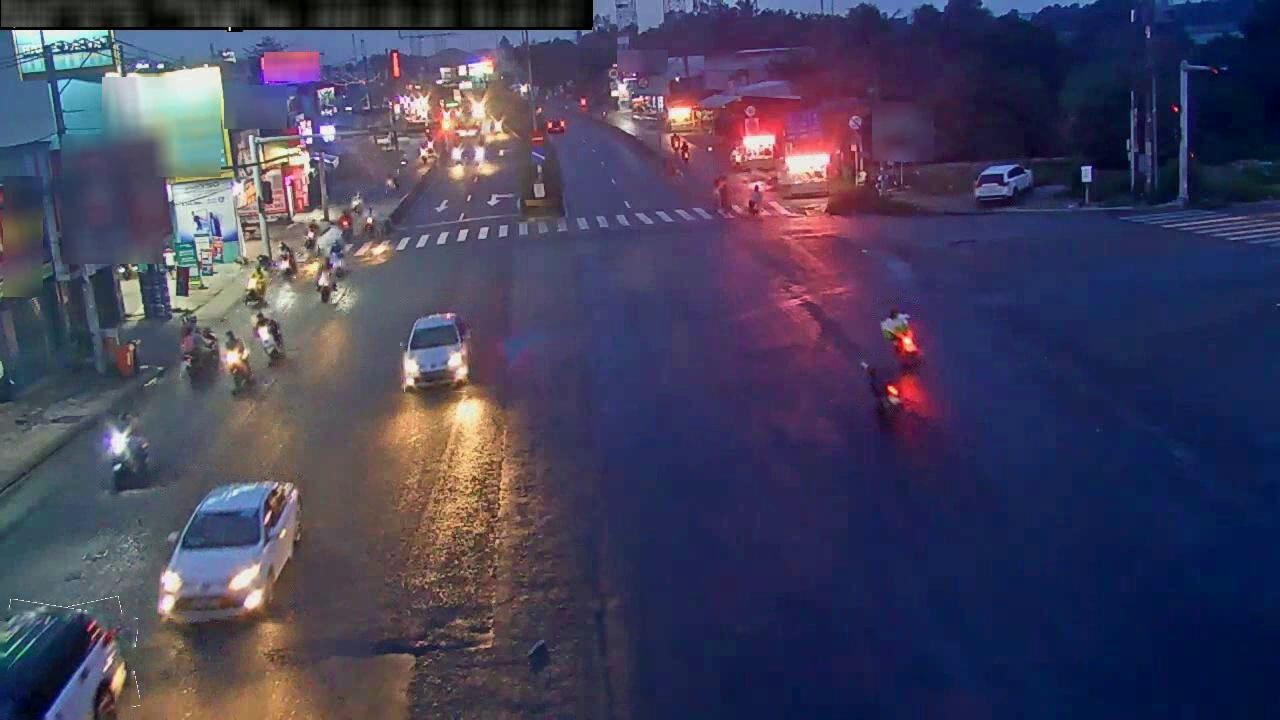Bus: (451, 119, 486, 163)
Car: (157, 480, 300, 621), (0, 606, 128, 719), (401, 312, 470, 392), (974, 164, 1033, 205), (363, 208, 376, 233), (546, 117, 565, 134)
Motorcycle: (254, 316, 284, 364), (316, 264, 335, 303)
Motorcyclist: (103, 413, 151, 492), (880, 305, 922, 368), (861, 361, 901, 420), (181, 327, 219, 382), (222, 330, 252, 392), (244, 265, 267, 306), (275, 240, 296, 278), (326, 237, 344, 278), (747, 178, 763, 216), (302, 219, 318, 253), (713, 173, 728, 209), (339, 211, 352, 235), (350, 191, 363, 215), (386, 173, 399, 194)
Traffic light: (390, 50, 401, 78)
